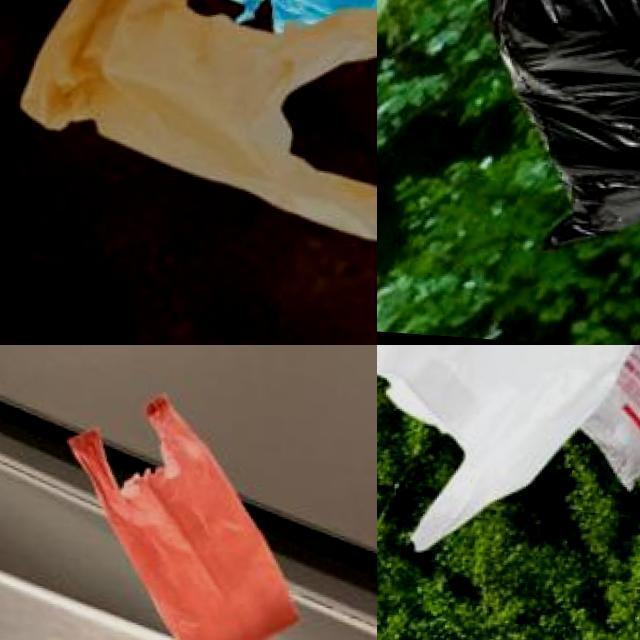waste: (15, 0, 377, 250), (59, 386, 352, 640), (377, 345, 640, 564), (473, 0, 640, 272)
